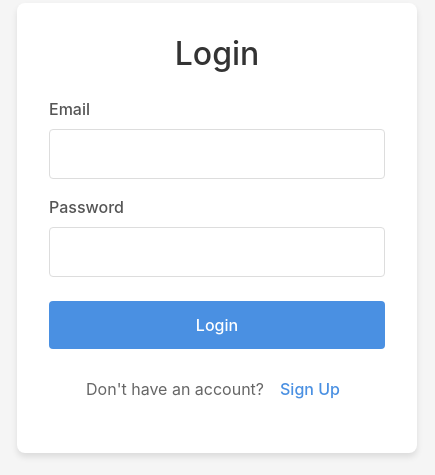
Test case: Login Component › toggles between login and signup modes
Expected: the heading "Login" is shown, [175,34,259,73]
Click the Sign Up button to switch to signup mode
Click the button "Sign Up". click: click(310, 389)
box: [272,373,348,405]
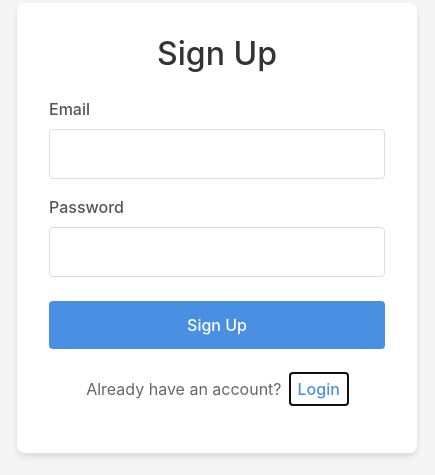
Now the heading "Sign Up" is shown, box [157,34,277,73]
Now the text "Already have an account?" is shown, box [86,379,282,399]
Now the button "Login" is shown
Click the Login button to switch back to login mode
Click the button "Login". click: click(319, 389)
box: [290,373,348,405]
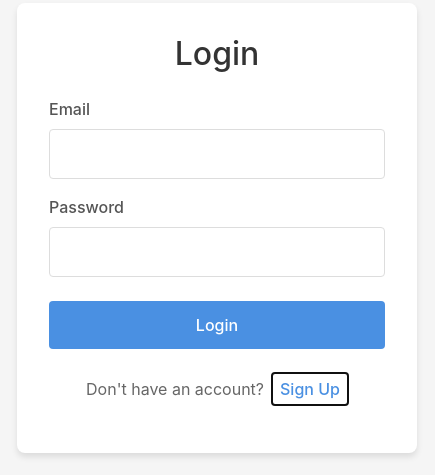
Now the heading "Login" is shown, box [175,34,259,73]
Now the text "Don't have an account?" is shown, box [86,379,264,399]
